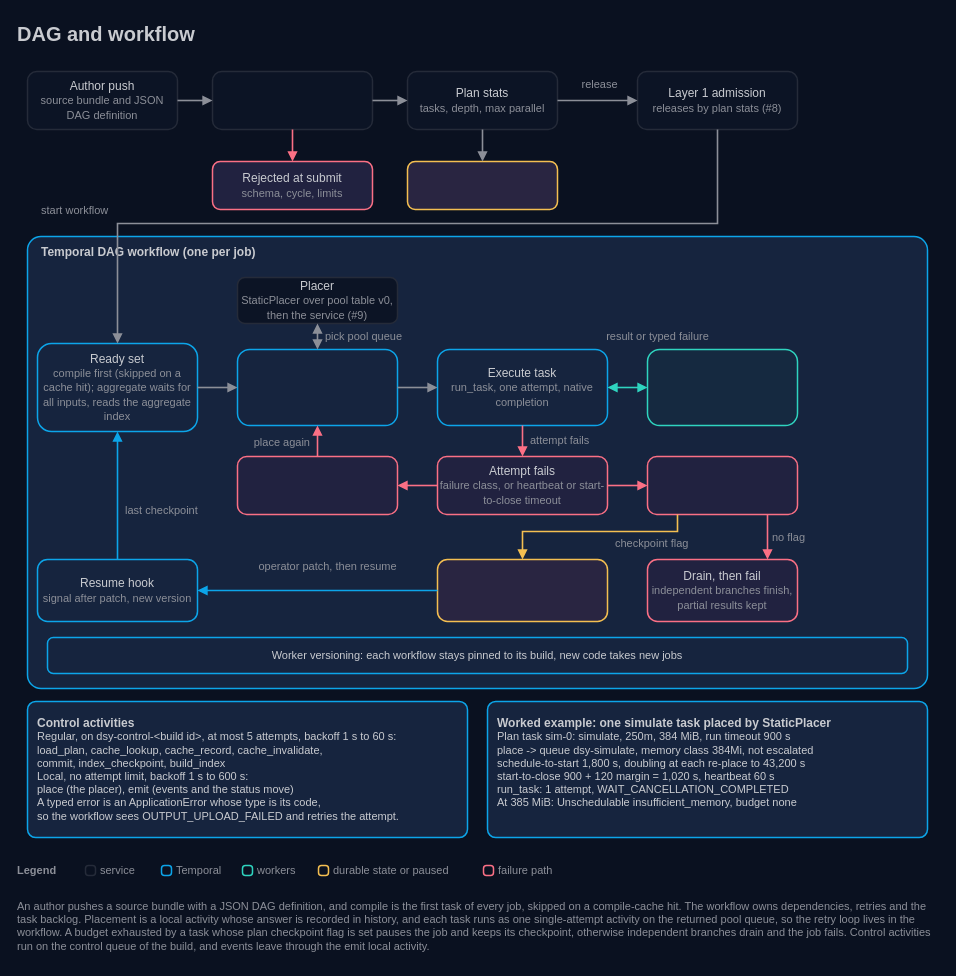
Image size: 956x976. Some labels were removed from this diagram. Here are the shapes that lost their labels. From the top down, the centre of each, then its label:
At point 292,100: "Validator at the submit path".
At point 482,185: "Validated plan immutable ref in the sources bucket".
At point 317,387: "Place task local activity, answer kept in history".
At point 722,387: "Worker pool slot compile, aggregate native; simulate wasm guest".
At point 317,485: "Retry loop in the workflow guest and infra budgets of the failure class table".
At point 722,485: "Retries exhausted".
At point 522,590: "Pause budget exhausted on a checkpoint task, or operator pause".
